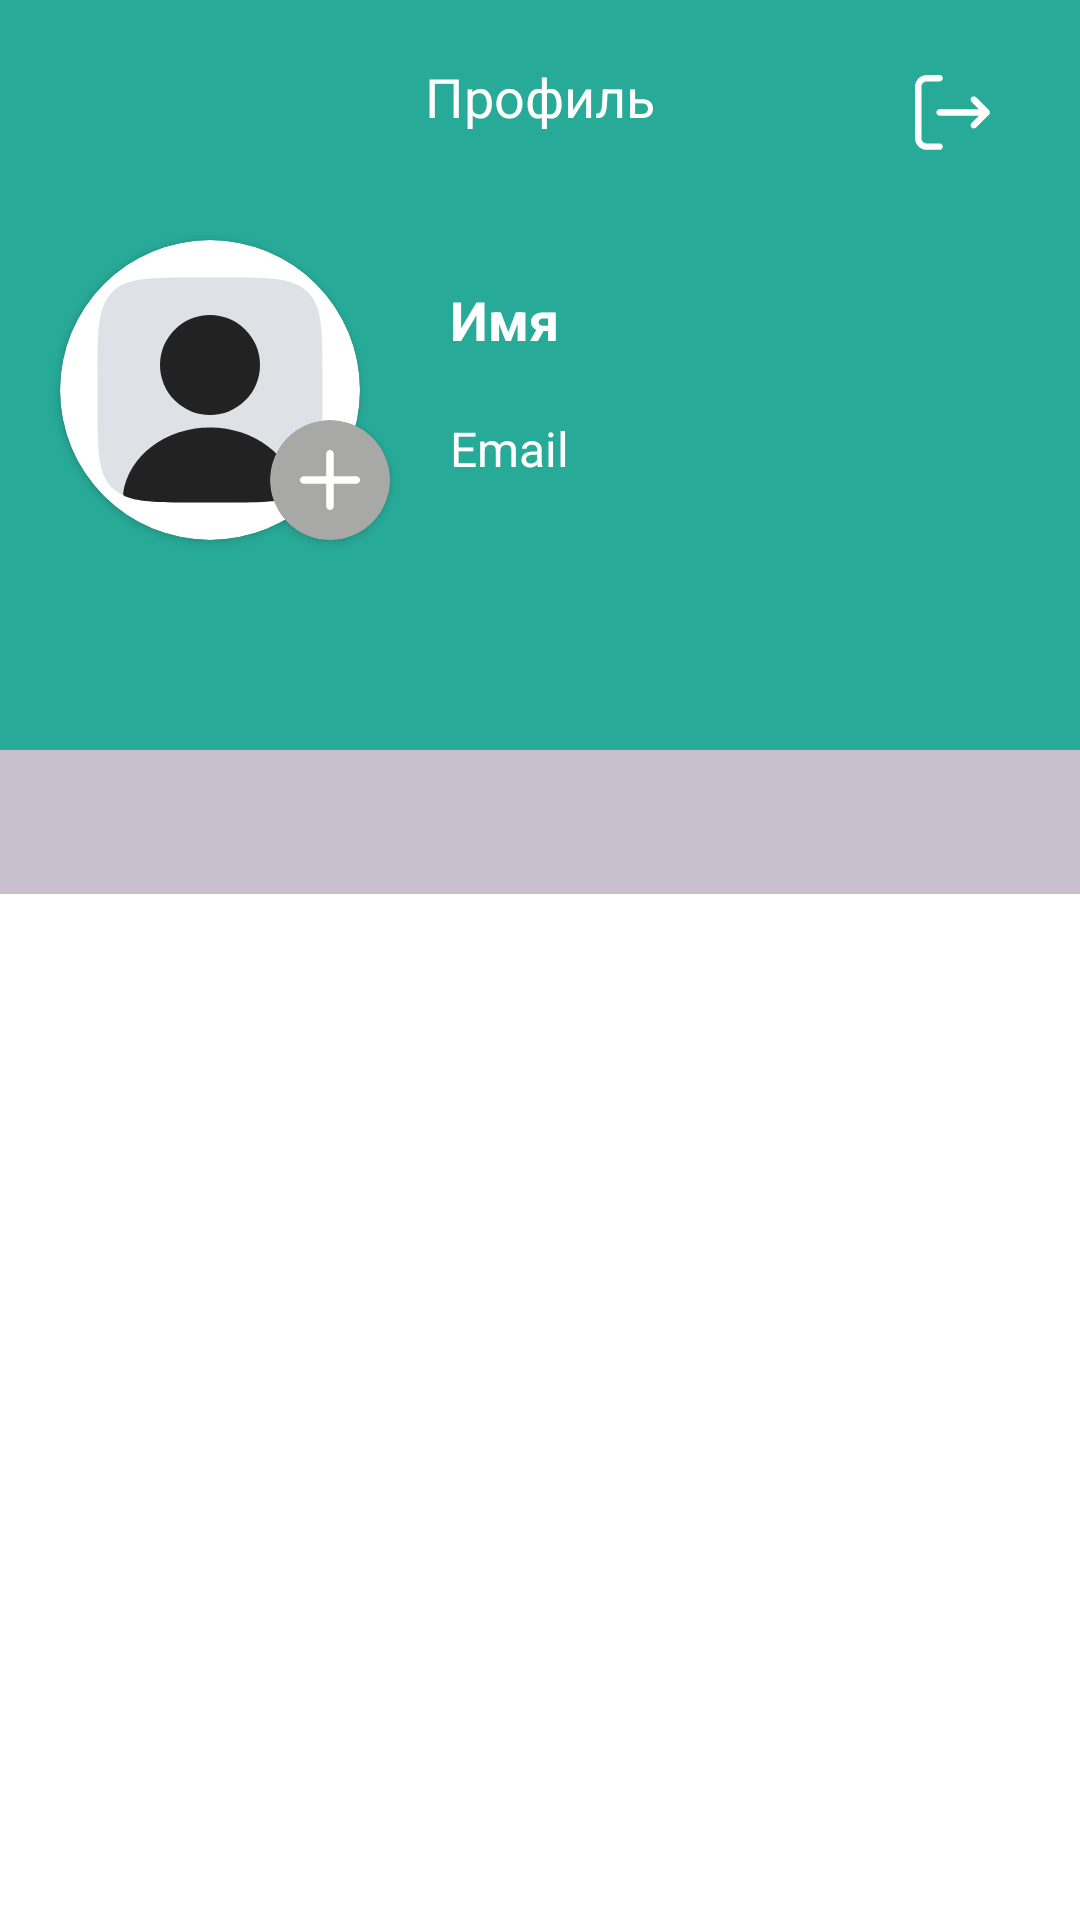

Screen size 1080x1920. Icon name, then its center in pixels as [x,y]:
go out: [952,112]
